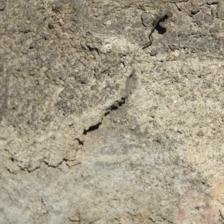Crack: (19, 74, 64, 178), (77, 25, 103, 113)
